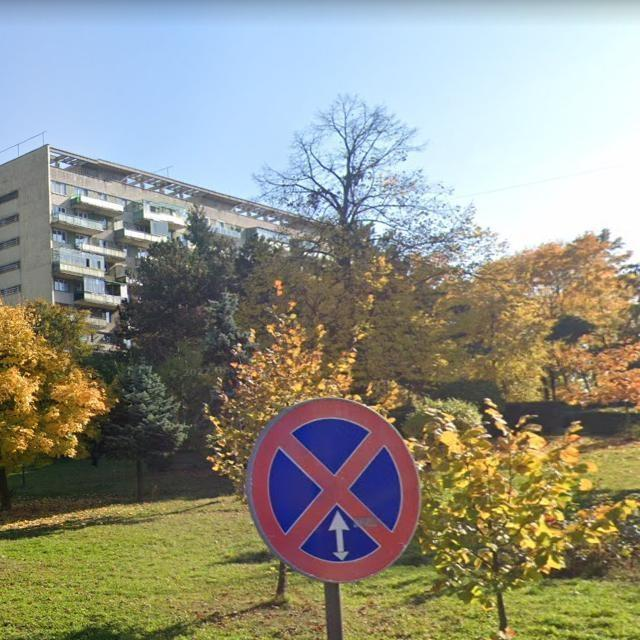forb_waiting: (246, 398, 420, 578)
